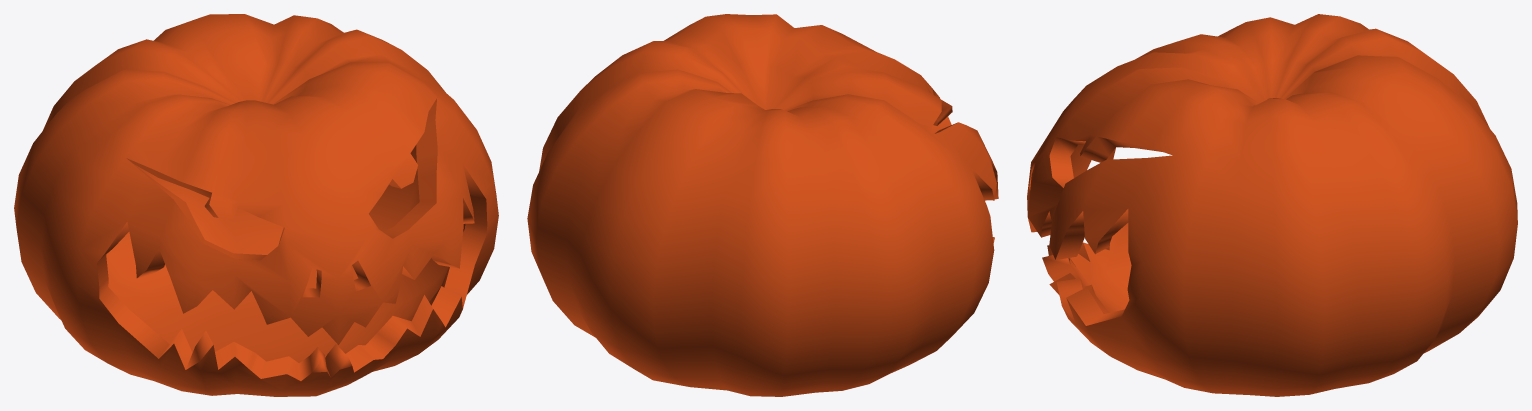
The model's file is jack1.glb.
3 views of the same model, side by side, from view 1: azimuth 30°, elevation 25°; view 2: azimuth 150°, elevation 25°; view 3: azimuth 270°, elevation 25° (orthographic). The views are drawn at different scales.
Visible parts, largest first — view 1: jack1; view 2: jack1; view 3: jack1.
Part boxes in pixels (x1=…): jack1: x1=14, y1=14, x2=498, y2=396; jack1: x1=527, y1=14, x2=998, y2=396; jack1: x1=1027, y1=14, x2=1517, y2=396.
Bounding box in the file's own units: 1.5 × 0.9912 × 1.49.
